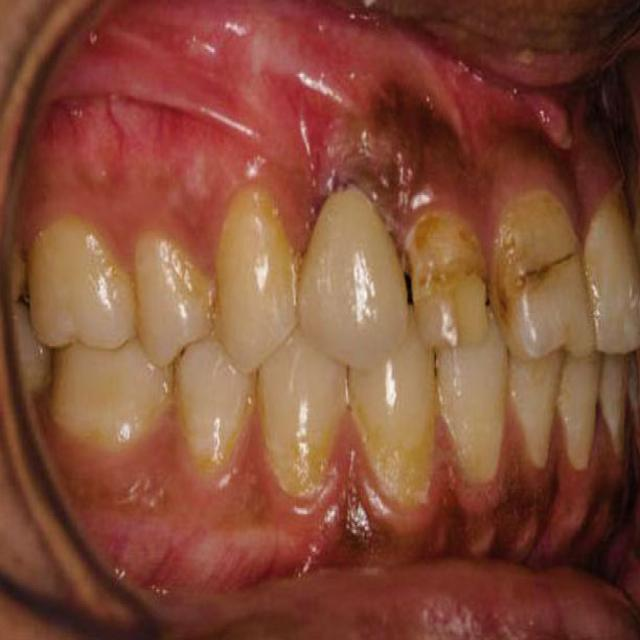caries: (502, 238, 584, 313), (408, 235, 483, 314)
